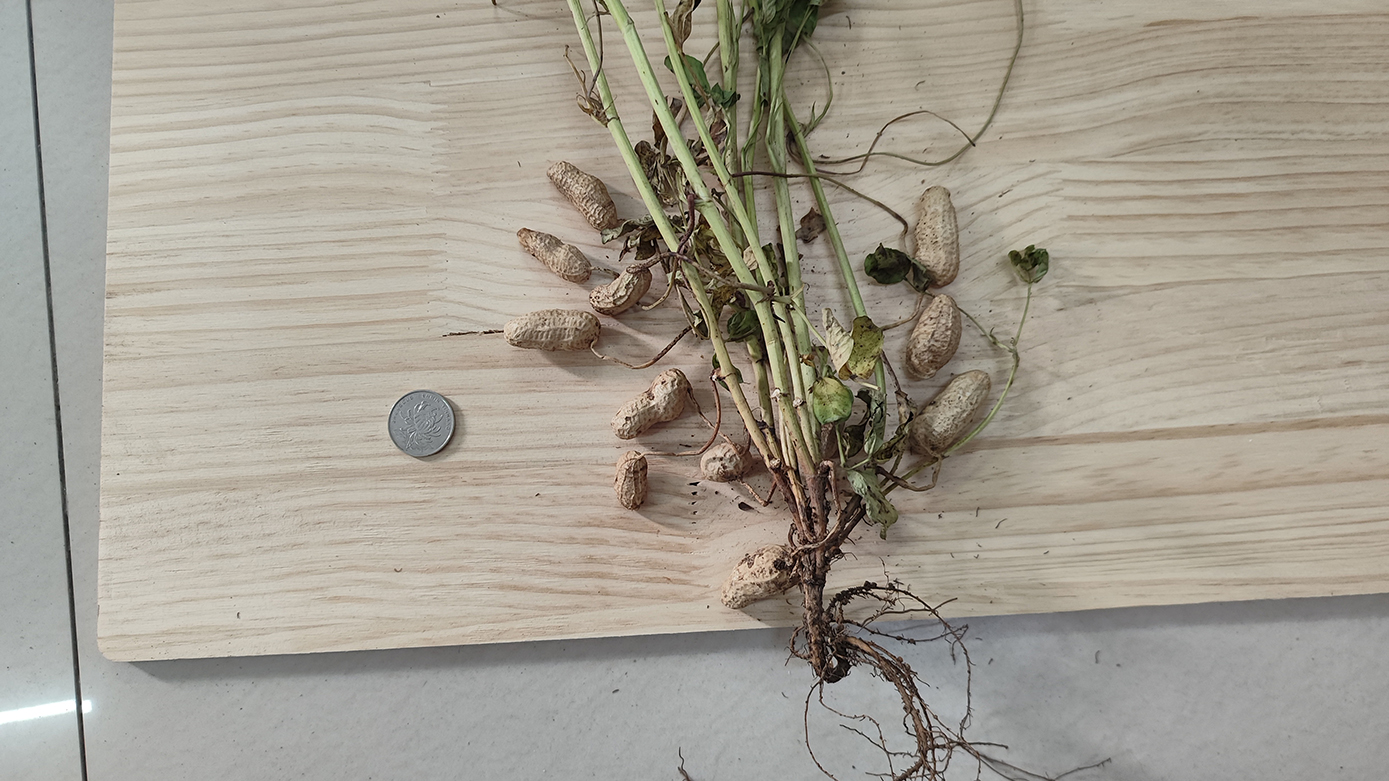h: (912, 372, 992, 451), (614, 367, 689, 436), (547, 160, 617, 231), (905, 292, 963, 377), (912, 186, 962, 284), (721, 547, 798, 608), (517, 226, 590, 282), (507, 310, 599, 351), (590, 266, 652, 314), (615, 452, 650, 510), (701, 443, 750, 479)
